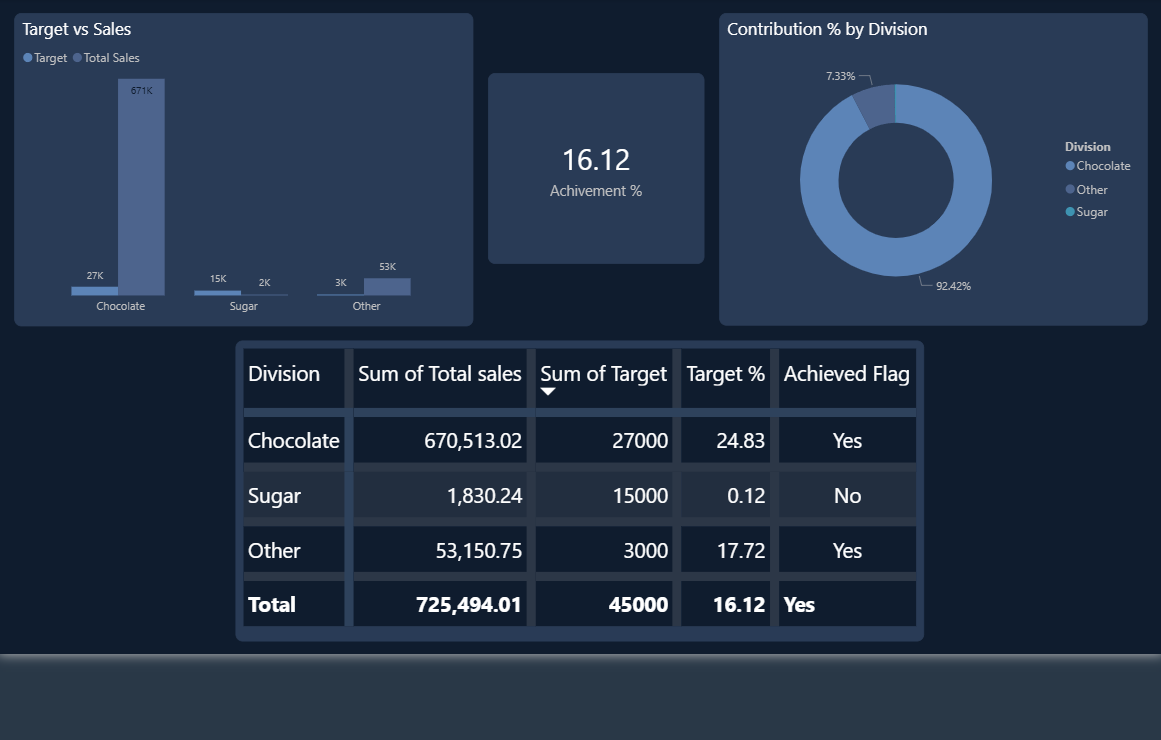

Layout of this report page (visuals, bound fields, positions):
{"tool":"powerbi","page":{"name":"Target vs Performance","canvas":[1280,720],"ordinal":4},"visuals":[{"type":"clusteredColumnChart","title":"Target vs Sales","fields":{"Category":["Candy_Targets.Division"],"Y":["Sum(Candy_Targets.Target)","Sum(Candy_Sales.Total sales)"]},"box":[17.3,16,504,344],"z":0},{"type":"card","fields":{"Values":["Candy_Factories.Achivement %"]},"box":[537.9,82.3,237.4,209.9],"z":1000},{"type":"pivotTable","fields":{"Values":["Sum(Candy_Sales.Total sales)","Sum(Candy_Targets.Target)","Candy_Factories.Target %","Candy_Factories.Achieved Flag"],"Rows":["Candy_Targets.Division"]},"box":[260.7,376,756.1,330.7],"z":2000},{"type":"donutChart","fields":{"Y":["Candy_Factories.Contribution %"],"Category":["Candy_Sales.Division"]},"box":[791.8,16.5,470.7,343.1],"z":3000}]}

Visuals, with their boxes on the page's 1280x720 design canvas (x1, y1, x2, y2). These are canvas units, not pixel positions in the 1161x740 screenshot, which may show the page scaled, cropped or inside an application window:
"Target vs Sales" clusteredColumnChart: crop(17, 16, 521, 360)
card - Candy_Factories.Achivement %: crop(538, 82, 775, 292)
pivotTable - Sum(Candy_Sales.Total sales) x Sum(Candy_Targets.Target): crop(261, 376, 1017, 707)
donutChart - Candy_Factories.Contribution % x Candy_Sales.Division: crop(792, 16, 1262, 360)
